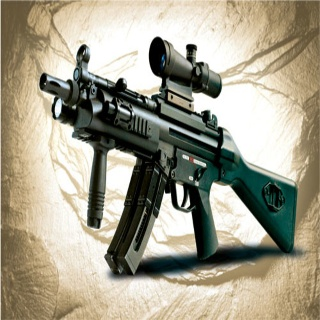rifle: (39, 35, 299, 275)
